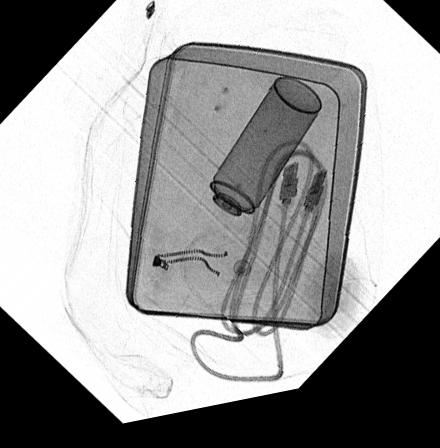Sprayer: (191, 89, 321, 253)
